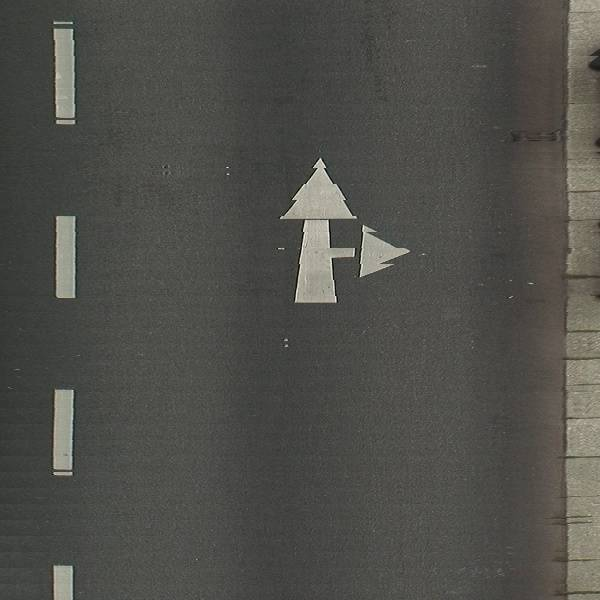road_damage: (354, 3, 390, 102)
